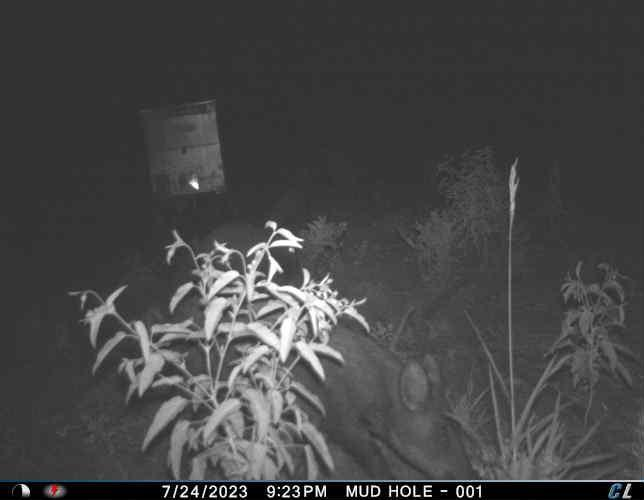Hog: (179, 312, 482, 483)
